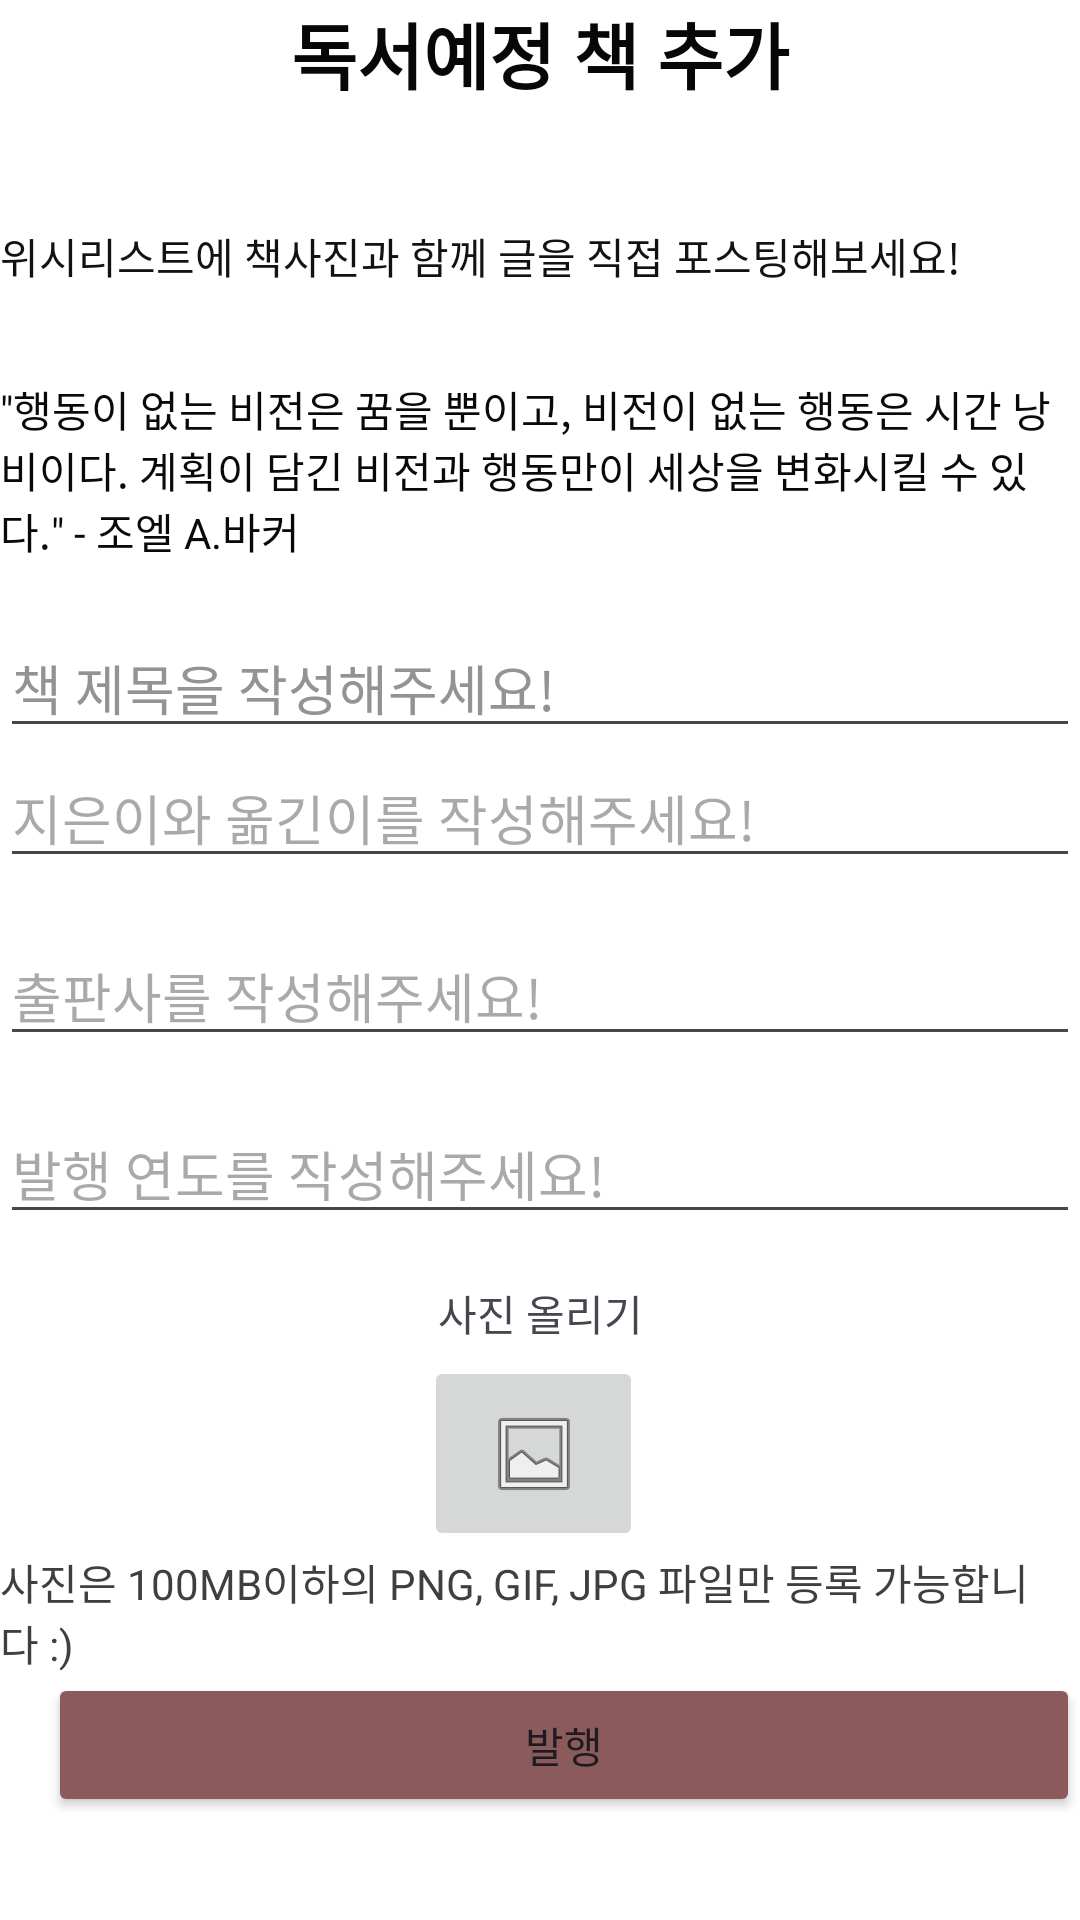

Where icons sit on this 1080*1920 app screen, as (x1, y1, x2, y2):
gallery: (436, 1374, 631, 1533)
